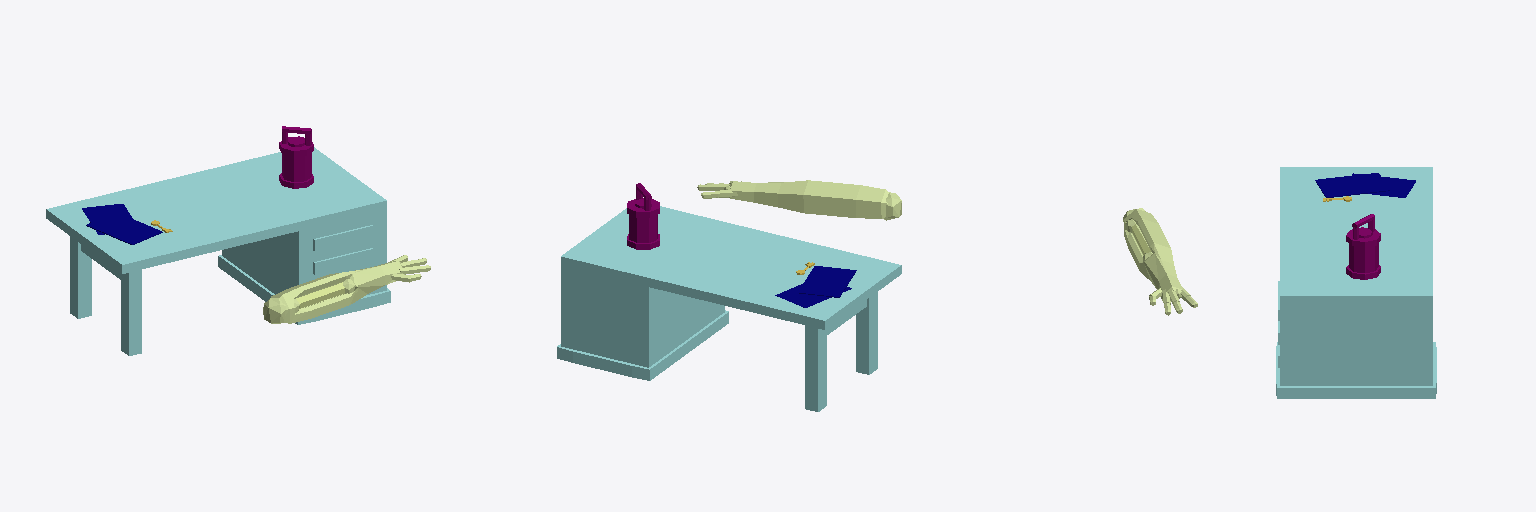
The model's file is Tabel.obj.
3 renders of one model, left to right at view 1: azimuth 30°, elevation 25°; view 2: azimuth 150°, elevation 25°; view 3: azimuth 270°, elevation 25°, orthographic.
Parts seen in each view (by area): view 1: Box006, Cylinder004, Cylinder002, Box008; view 2: Box006, Cylinder004, Cylinder002, Box008, Box007; view 3: Box006, Cylinder004, Cylinder002, Box008, Box007.
Boxes of the visible parts, box(x1,y1,x2,y2) form: Box006: box(46, 147, 390, 355); Cylinder004: box(263, 255, 430, 323); Cylinder002: box(279, 126, 313, 188); Box008: box(86, 212, 162, 244); Box006: box(557, 206, 901, 411); Cylinder004: box(697, 180, 901, 220); Cylinder002: box(627, 183, 659, 249); Box008: box(798, 266, 856, 297); Box007: box(775, 284, 851, 307); Box006: box(1276, 167, 1436, 398); Cylinder004: box(1123, 208, 1197, 315); Cylinder002: box(1346, 214, 1380, 279); Box008: box(1315, 173, 1389, 197); Box007: box(1352, 173, 1415, 197).
Bounding box in the file's own units: 60.59 × 33.79 × 61.69.